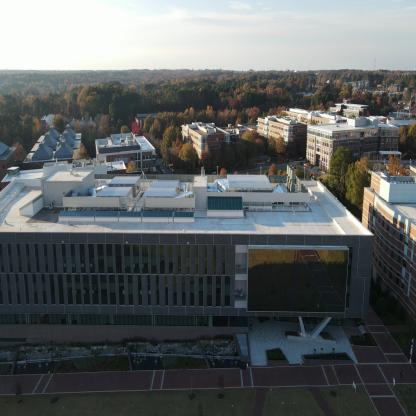EB-1: (384, 167, 416, 317)
Fitts- Woolard: (0, 141, 379, 368)
